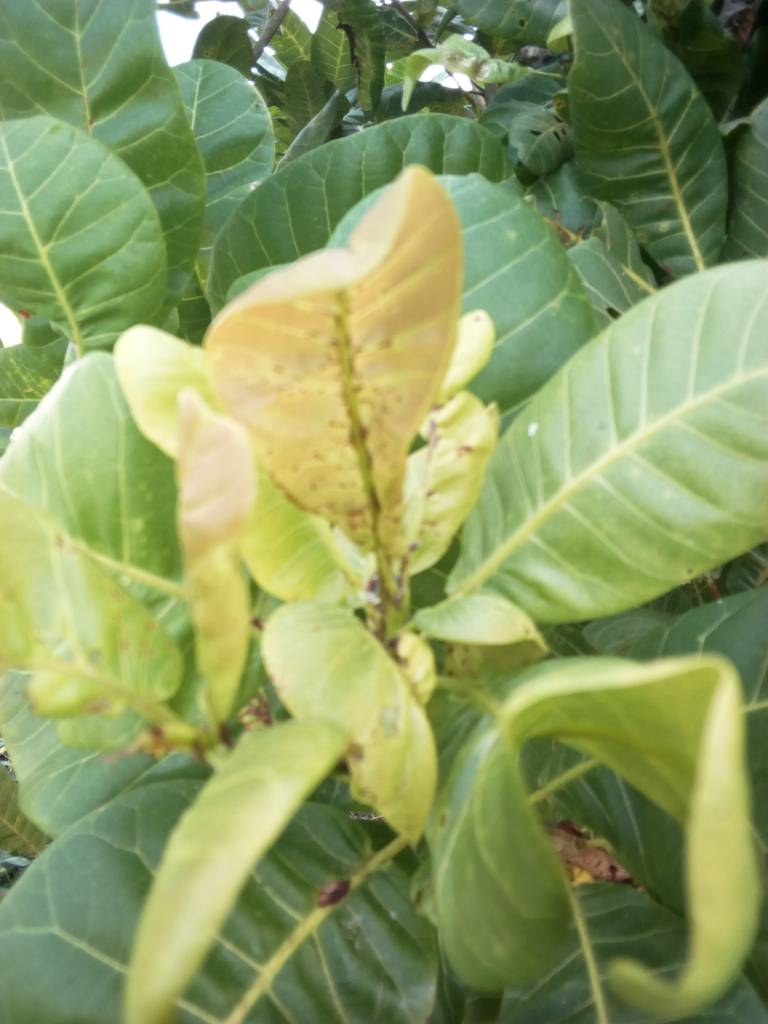Aphis gossypi: (258, 592, 447, 850), (500, 103, 577, 175)
